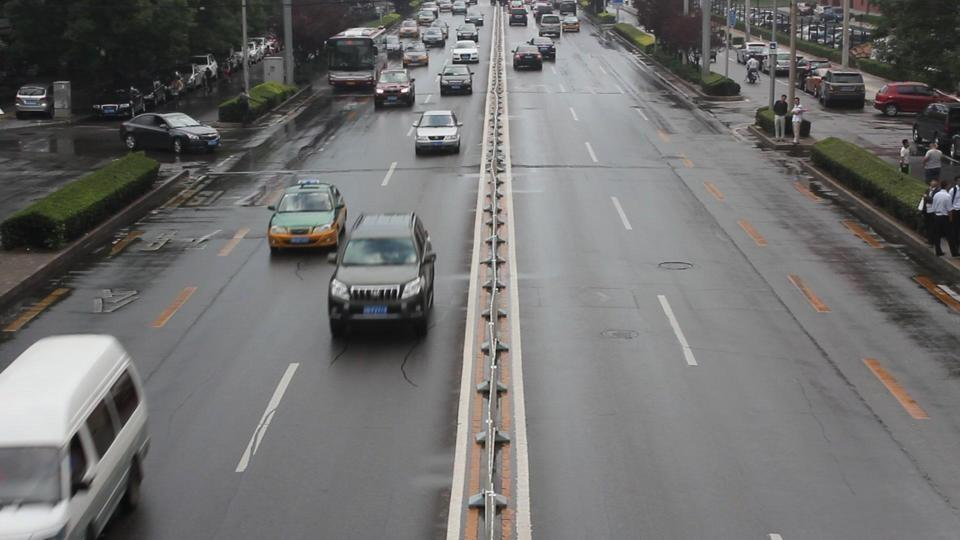car: (0, 333, 154, 538), (327, 211, 437, 341), (266, 180, 348, 251), (119, 111, 221, 153), (873, 81, 957, 116), (407, 110, 463, 157), (912, 103, 960, 154), (817, 68, 866, 110), (374, 68, 417, 110), (15, 83, 54, 119), (437, 65, 473, 95), (512, 44, 543, 72), (401, 42, 430, 68), (805, 64, 830, 93), (537, 12, 562, 39), (451, 42, 479, 66), (737, 42, 772, 60), (421, 24, 447, 48), (769, 53, 795, 75), (508, 4, 528, 26)
